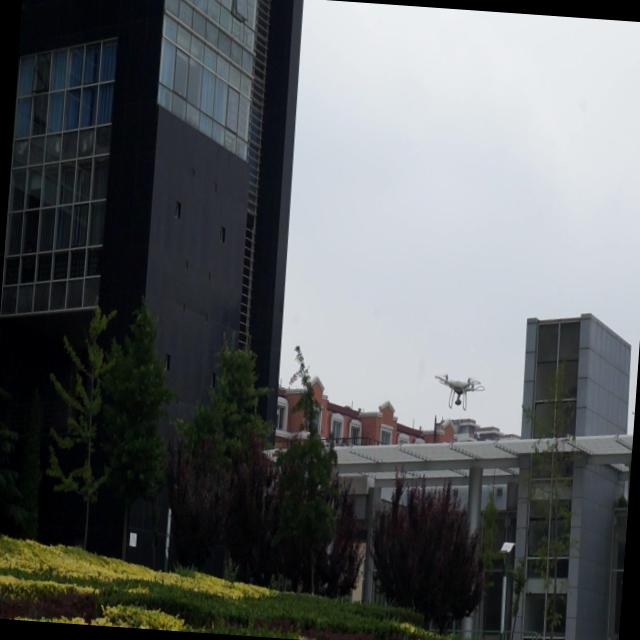drone: (428, 368, 486, 412)
